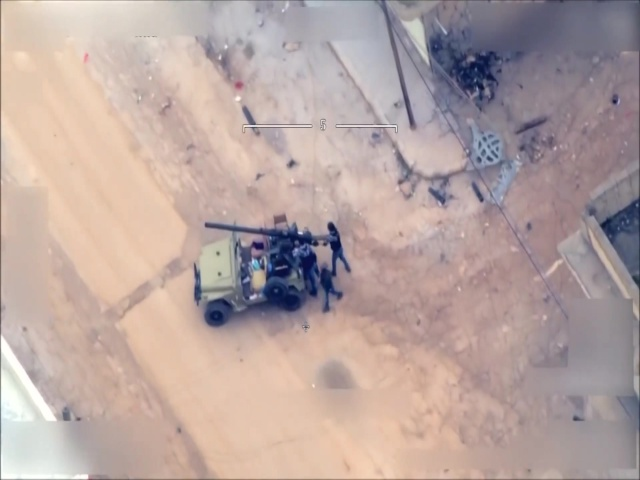person: (323, 221, 349, 277), (317, 264, 343, 312)
vehicle: (190, 227, 313, 327)
